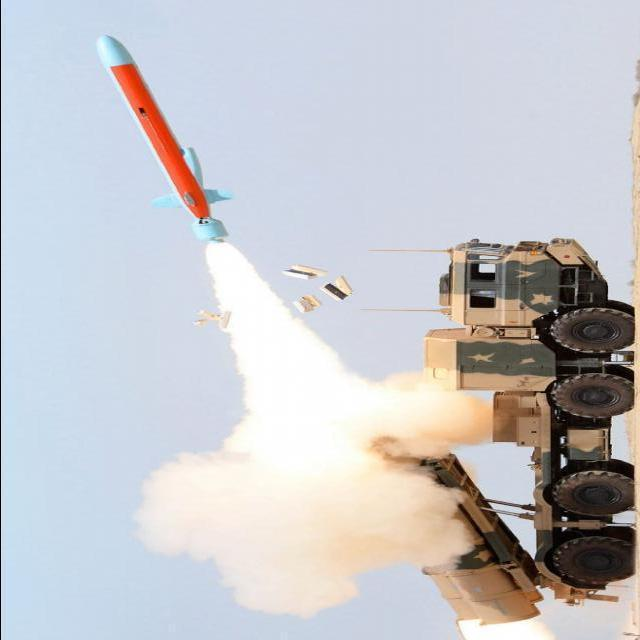missile: (88, 30, 232, 246)
